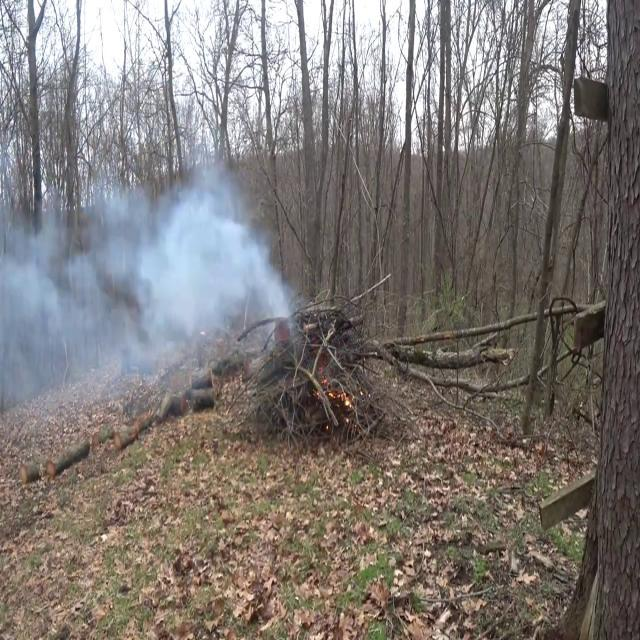Smoke: (0, 129, 296, 431), (0, 156, 101, 437)
